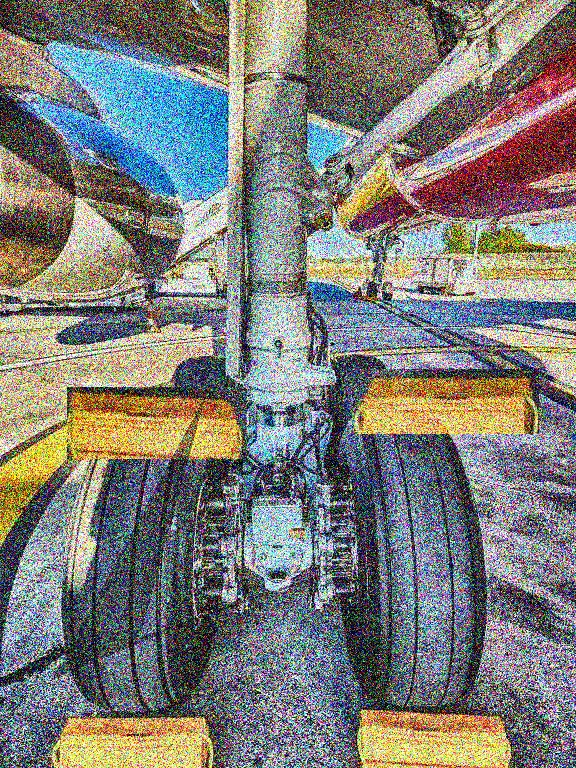chock: (67, 387, 247, 459), (352, 369, 539, 434), (358, 705, 515, 768), (50, 710, 214, 767), (289, 528, 306, 541), (365, 295, 377, 304)
wheel: (64, 407, 223, 711), (336, 408, 486, 706), (324, 353, 399, 473), (167, 355, 236, 464), (381, 281, 392, 300), (366, 281, 377, 297)
